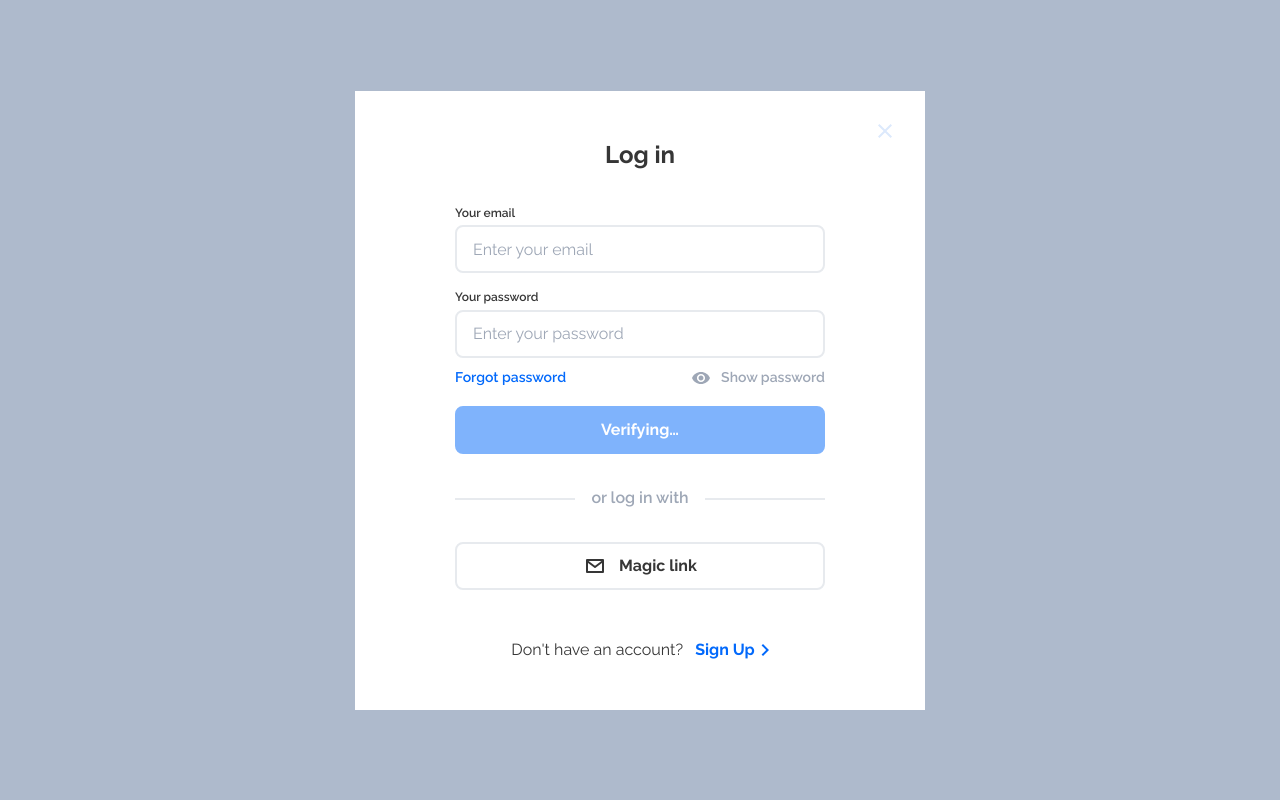
Test: AuthModal › switches_mode_between_login_and_register
This screenshot has width=1280, height=800.
Expected: the heading "Log in" is shown, [605,140,675,168]
Expected: the text "Create new account" is not shown
Click the button "Sign Up" at (732, 650), box [695,638,769,662]
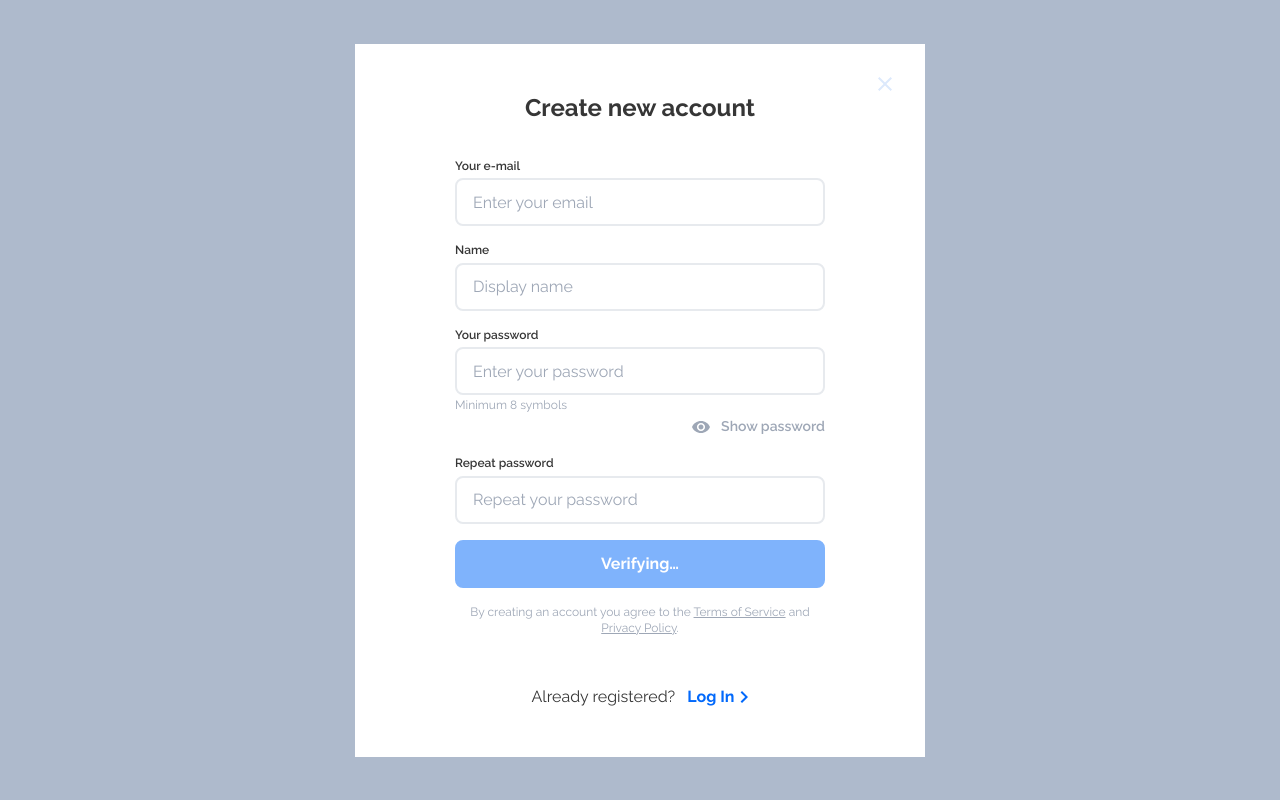
Now the heading "Create new account" is shown, box [525,92,755,122]
Click the button "Log In" at (718, 696), box [687,684,748,708]
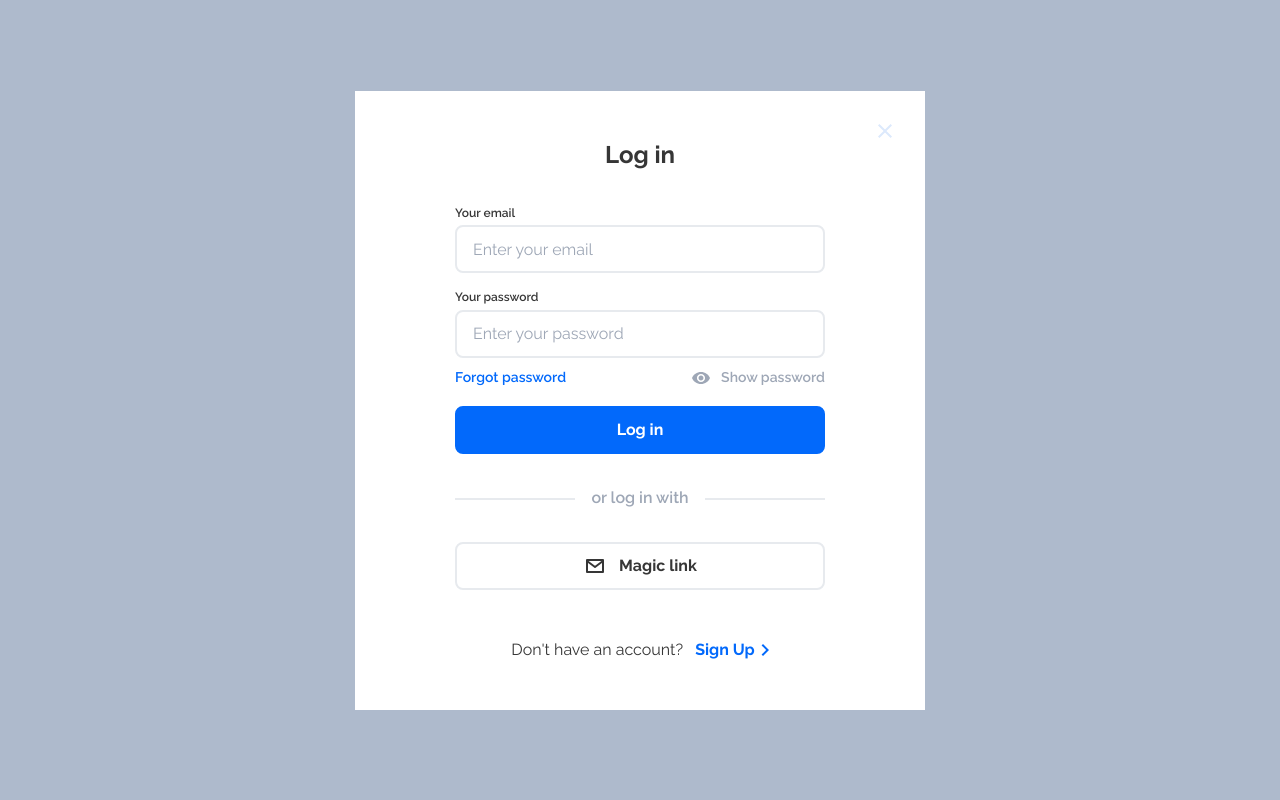
Now the heading "Log in" is shown, box [605,140,675,168]
